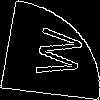W: (25, 25, 85, 79)
